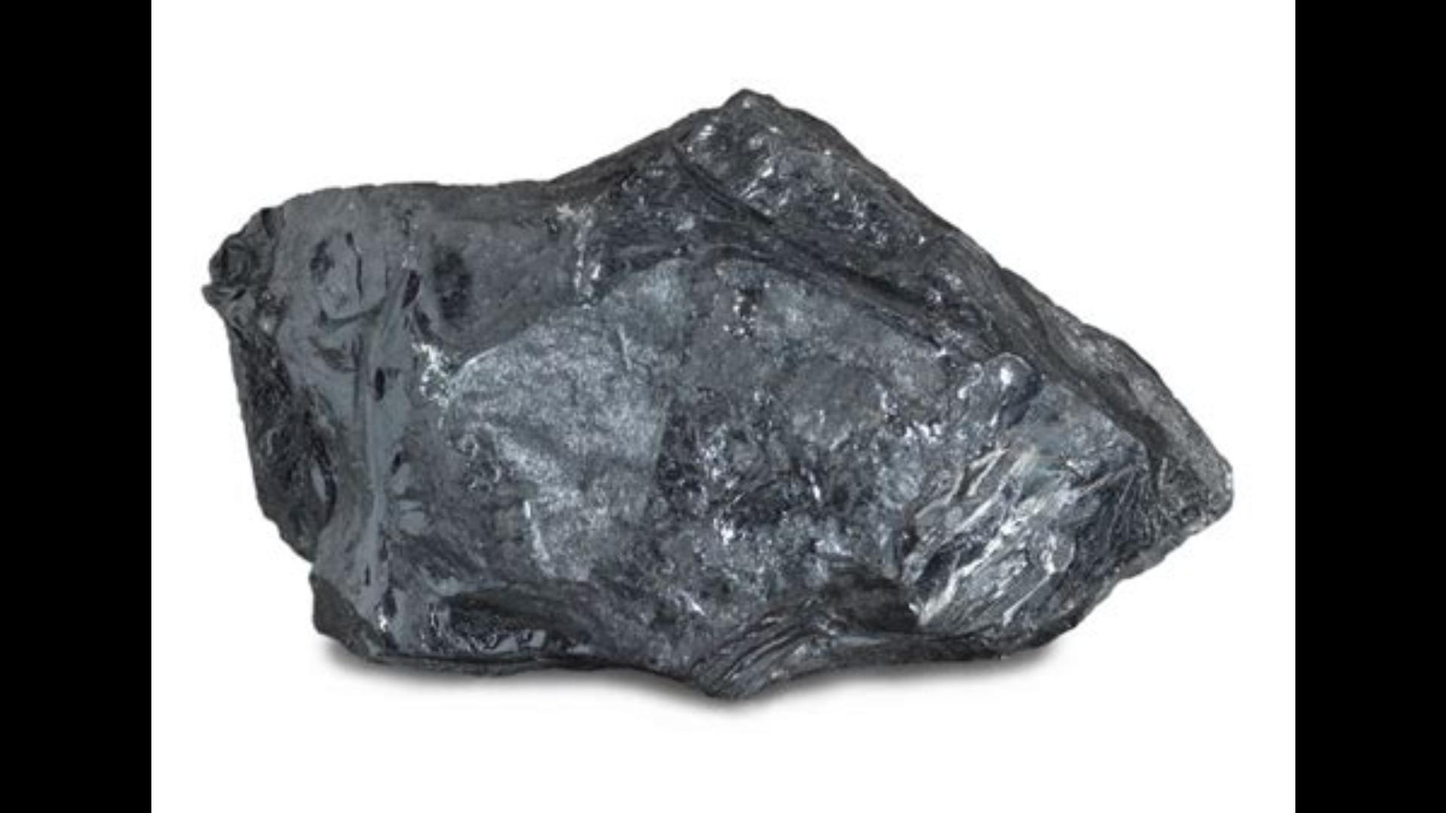rock: (204, 92, 1227, 695)
